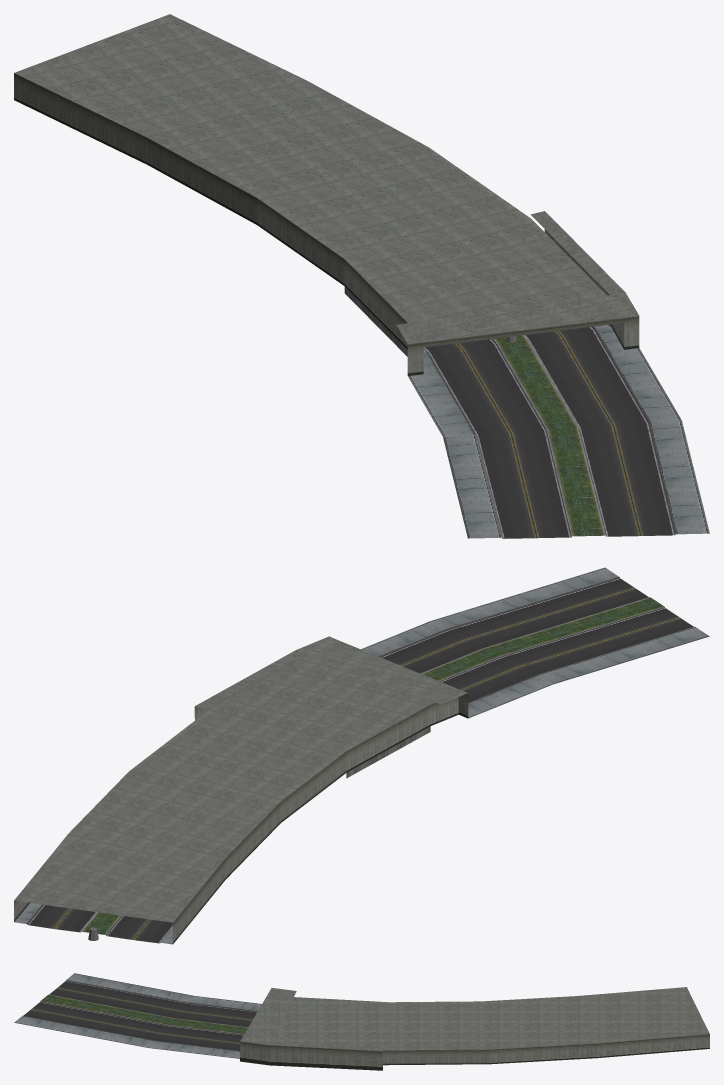
File: laroads_05_las.obj
3 views of the same model, one above another, from view 1: azimuth 30°, elevation 25°; view 2: azimuth 150°, elevation 25°; view 3: azimuth 270°, elevation 25° (orthographic). The views are drawn at different scales.
Visible parts, largest first — view 1: LAroads_05_LAs; view 2: LAroads_05_LAs; view 3: LAroads_05_LAs.
Boxes of the visible parts, x1,y1,x2,y2 form: LAroads_05_LAs: (14, 14, 709, 538); LAroads_05_LAs: (14, 567, 709, 944); LAroads_05_LAs: (14, 973, 709, 1070).
Bounding box in the file's own units: 60.24 × 6.26 × 185.
